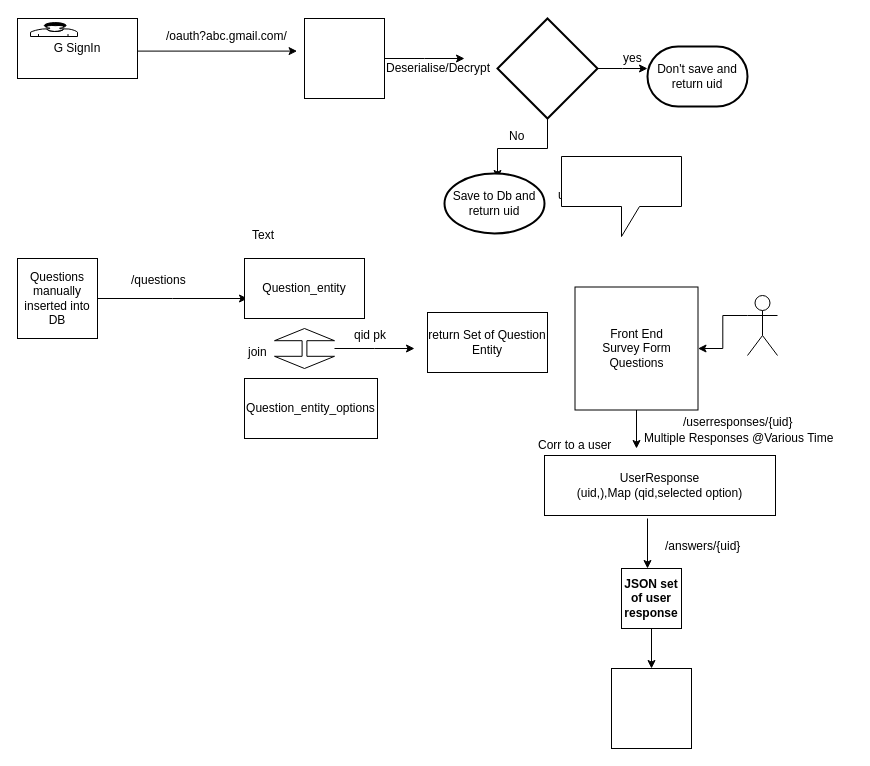
The diagram is 870 pixels wide and 766 high, and some of its shapes have lost their labels. The box of each missing label's shape, as (x1, y1, x2, y2) in pixels:
Actor: (746, 294, 778, 356)
FrontEnd Demographics: (610, 668, 692, 748)
if user exists: (496, 17, 598, 119)
Token: (304, 18, 384, 98)
User Entity: (560, 156, 682, 236)
